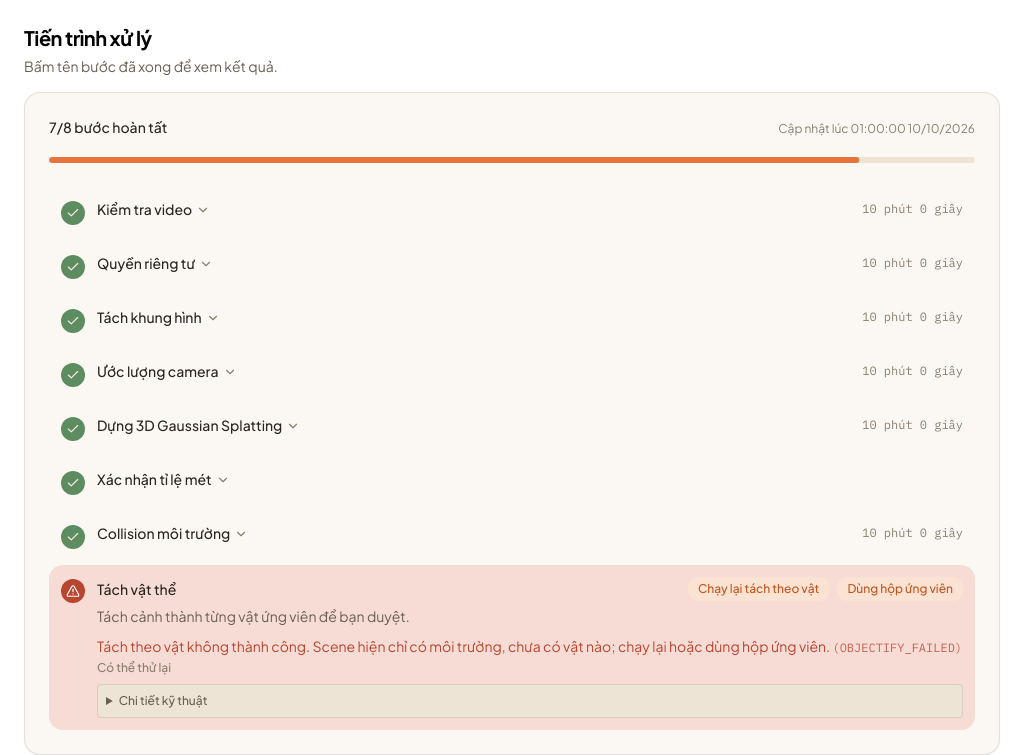
Test case: các trường hợp còn lại của hàng bước › gặp 409 (scene đã đổi hoặc đã có yêu cầu khác) thì đọc lại trạng thái từ máy chủ
The image size is (1024, 755).
What coordinates should you click on to do the following:
click the button "Dùng hộp ứng viên"
I would click on:
 (900, 589)
Its box is [837,577,963,601].
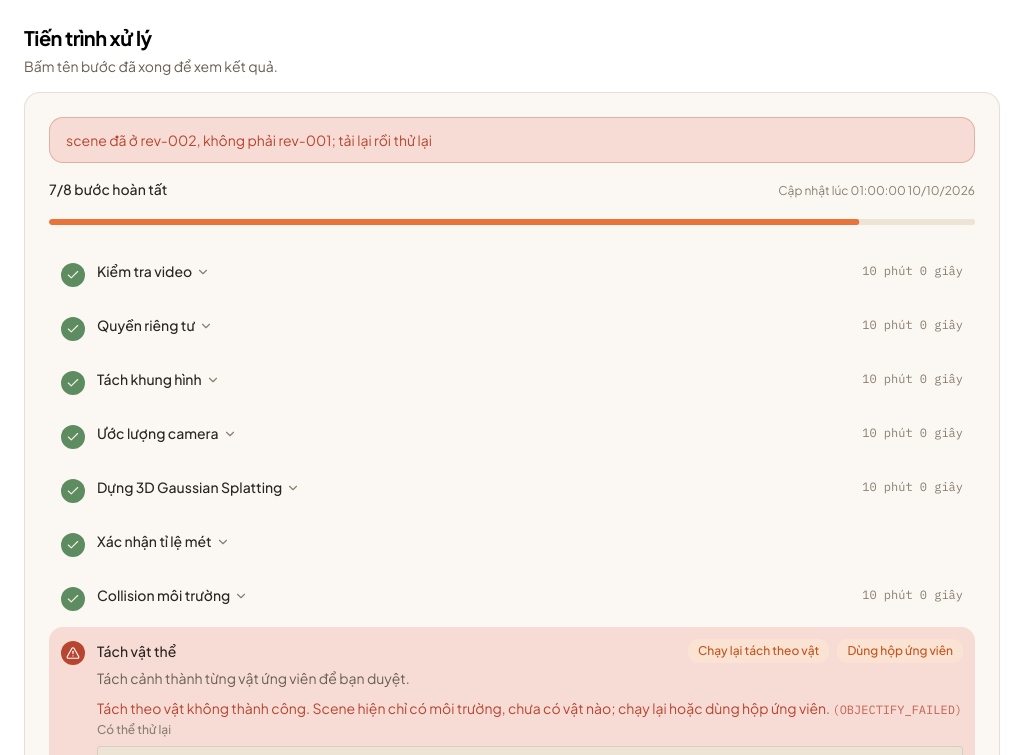
Now the text "scene đã ở rev-002, không phải rev-001; tải lại rồi thử lại" is shown, box [66,130,432,150]
